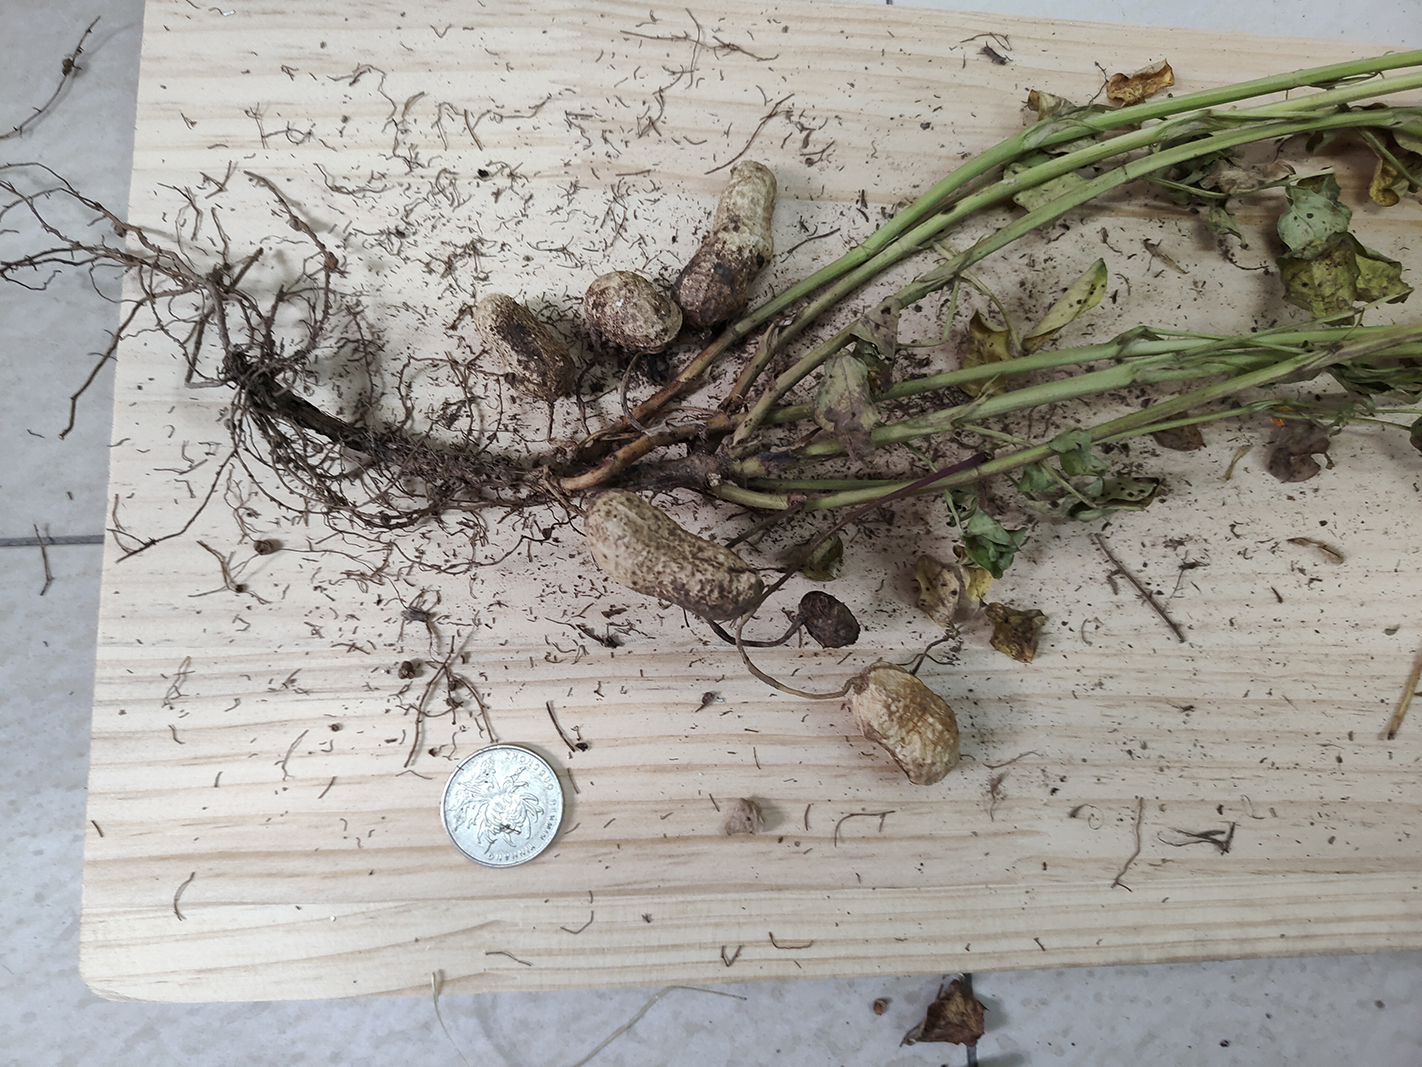h: (585, 491, 763, 620), (681, 161, 779, 328), (846, 665, 959, 783), (586, 273, 680, 351)
l: (476, 293, 571, 399), (798, 592, 861, 648)
